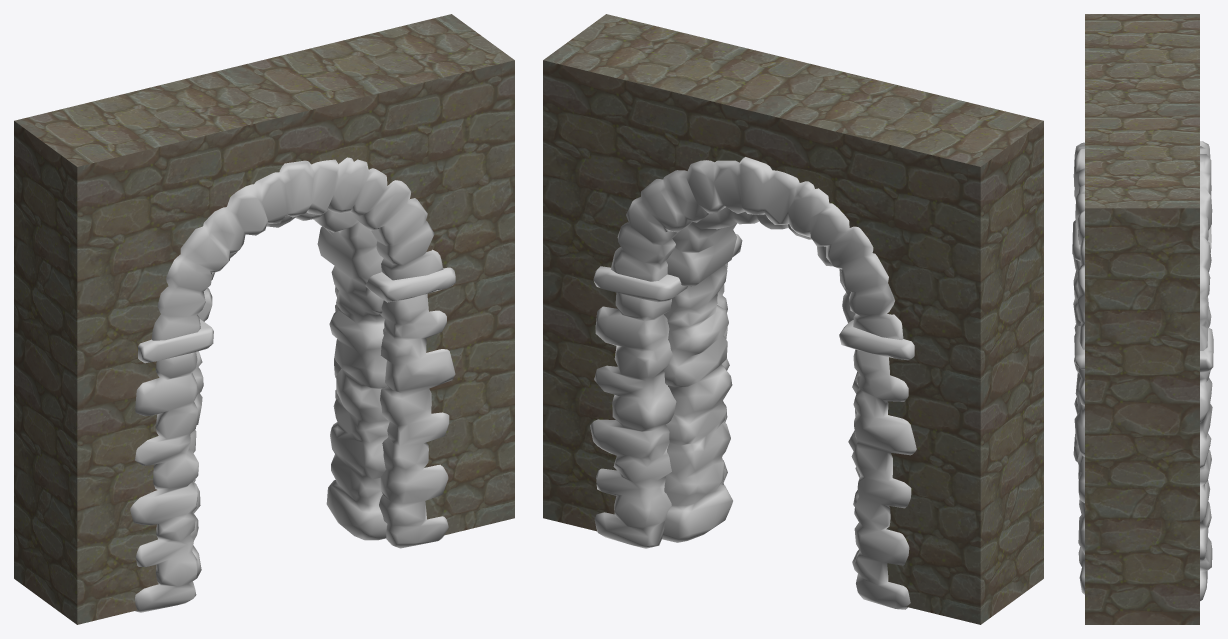
File: MSH_fwOF_Ruins_Wall_Doorway_02.fbx
The picture shows the model from 3 angles, left to right: view 1: azimuth 30°, elevation 25°; view 2: azimuth 150°, elevation 25°; view 3: azimuth 270°, elevation 25°; orthographic projection. The views are drawn at different scales.
Visible parts, largest first — view 1: MSH_fwOF_Ruins_Wall_Door_02_Base, MSH_fwOF_Ruins_Wall_Door_02_LOD0; view 2: MSH_fwOF_Ruins_Wall_Door_02_Base, MSH_fwOF_Ruins_Wall_Door_02_LOD0; view 3: MSH_fwOF_Ruins_Wall_Door_02_Base, MSH_fwOF_Ruins_Wall_Door_02_LOD0.
Part boxes in pixels (x1=…): MSH_fwOF_Ruins_Wall_Door_02_Base: x1=14, y1=14, x2=514, y2=624; MSH_fwOF_Ruins_Wall_Door_02_LOD0: x1=130, y1=157, x2=455, y2=612; MSH_fwOF_Ruins_Wall_Door_02_Base: x1=543, y1=14, x2=1043, y2=624; MSH_fwOF_Ruins_Wall_Door_02_LOD0: x1=590, y1=157, x2=916, y2=609; MSH_fwOF_Ruins_Wall_Door_02_Base: x1=1085, y1=14, x2=1199, y2=624; MSH_fwOF_Ruins_Wall_Door_02_LOD0: x1=1072, y1=141, x2=1213, y2=600.
Size of what is drawn, in the model's own units: 4 by 4.06 by 1.23.
